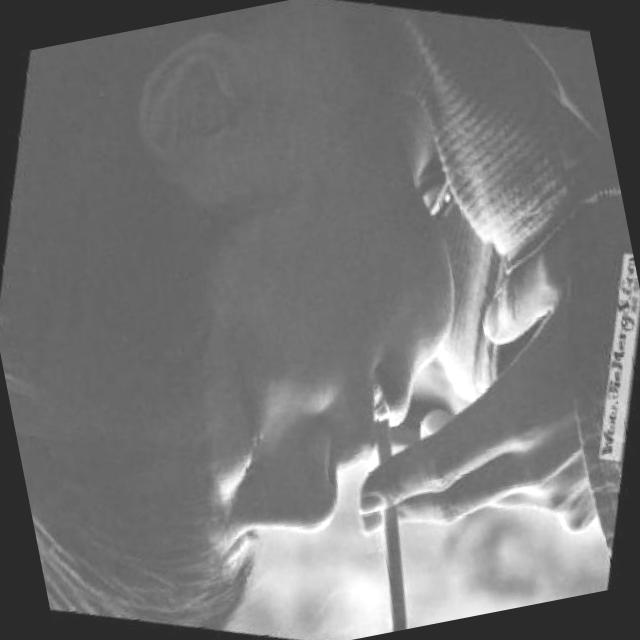cigarette: (308, 402, 480, 640)
